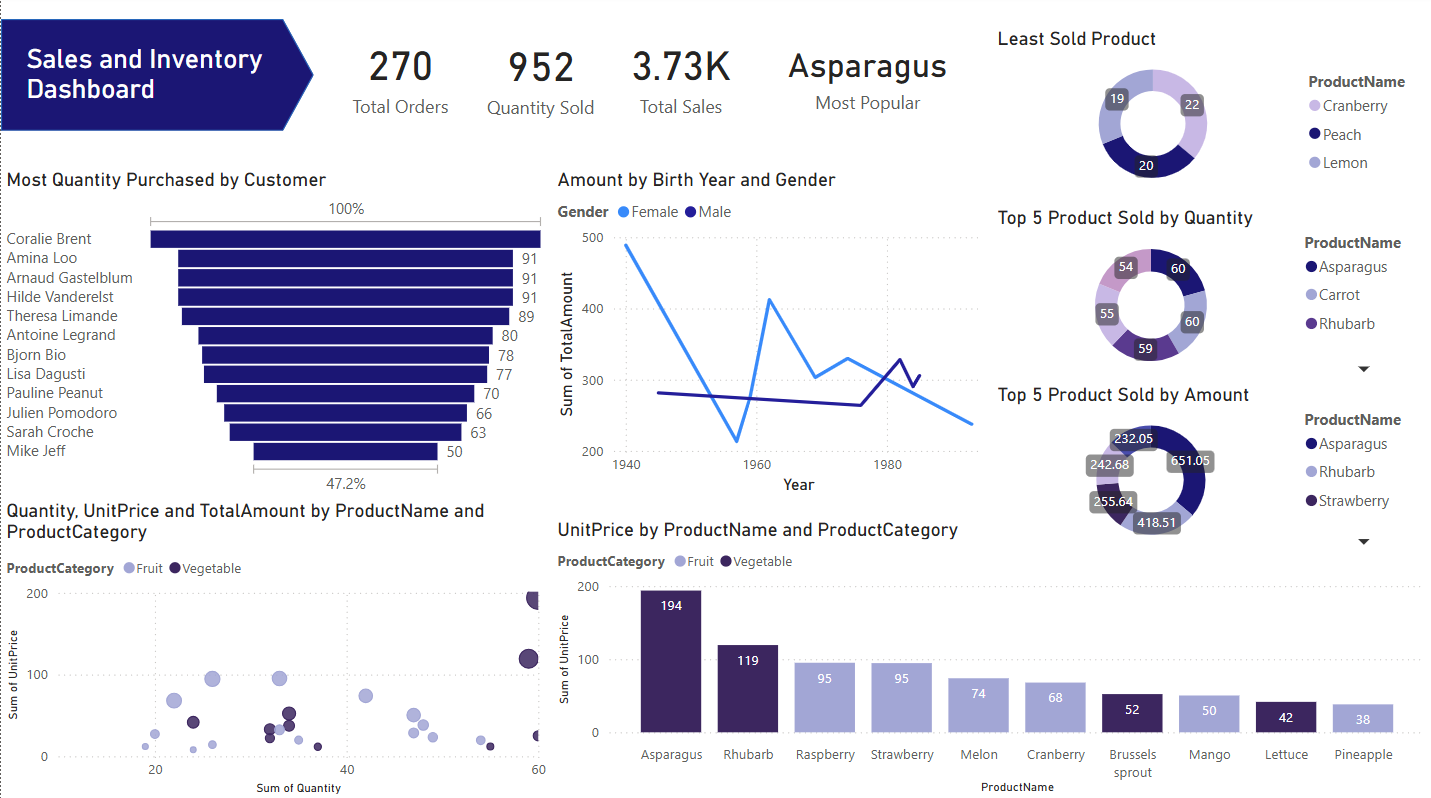

This screenshot's page, from the dashboard's own definition file:
{"tool":"powerbi","page":{"name":"Page 1","canvas":[1280,720],"ordinal":0},"visuals":[{"type":"funnel","title":"Most Quantity Purchased by Customer","fields":{"Category":["Sales and Inventory.CustomerFullName"],"Y":["Sales and Inventory.Quantity"]},"box":[0,153.7,493.1,296.7],"z":0},{"type":"scatterChart","title":"Quantity, UnitPrice and TotalAmount by ProductName and ProductCategory","fields":{"Category":["Sales and Inventory.ProductName"],"Series":["Sales and Inventory.ProductCategory"],"X":["Sales and Inventory.Quantity"],"Size":["Sales and Inventory.TotalAmount"],"Y":["Sales and Inventory.UnitPrice"]},"box":[0,450.3,493.1,269.4],"z":1000},{"type":"columnChart","title":"UnitPrice by ProductName and ProductCategory","fields":{"Y":["Sales and Inventory.UnitPrice"],"Category":["Sales and Inventory.ProductName"],"Series":["Sales and Inventory.ProductCategory"]},"box":[493.1,467.8,786.9,251.9],"z":2000},{"type":"lineChart","title":"Amount by Birth Year and Gender","fields":{"Category":["Sales and Inventory.Customer Birthdate.Variation.Date Hierarchy.Year","Sales and Inventory.Customer Birthdate.Variation.Date Hierarchy.Quarter","Sales and Inventory.Customer Birthdate.Variation.Date Hierarchy.Month","Sales and Inventory.Customer Birthdate.Variation.Date Hierarchy.Day"],"Y":["Sales and Inventory.TotalAmount"],"Series":["Sales and Inventory.Gender"]},"box":[493.1,153.7,393.9,296.7],"z":3000},{"type":"donutChart","title":"Top 5 Product Sold by Quantity","fields":{"Category":["Sales and Inventory.ProductName"],"Y":["Sales and Inventory.Quantity"]},"box":[887.5,188.1,388.7,158.5],"z":4000},{"type":"donutChart","title":"Top 5 Product Sold by Amount","fields":{"Category":["Sales and Inventory.ProductName"],"Y":["Sales and Inventory.TotalAmount"]},"box":[887.5,346.6,388.7,154.9],"z":5000},{"type":"donutChart","title":"Least Sold Product","fields":{"Category":["Sales and Inventory.ProductName"],"Y":["Sales and Inventory.Quantity"]},"box":[887.5,27.8,392.2,154],"z":6000},{"type":"card","title":"Total Sales","fields":{"Values":["Sales and Inventory.Quantity"]},"box":[302.5,27.2,109.9,86.6],"z":7000},{"type":"card","fields":{"Values":["Sales and Inventory.Quantity"]},"box":[419.2,25.3,128.4,91.4],"z":8000},{"type":"card","fields":{"Values":["Sales and Inventory.TotalAmount"]},"box":[547.6,28.2,123.5,84.6],"z":9000},{"type":"card","fields":{"Values":["Sales and Inventory.ProductName"]},"box":[690.6,26.3,171.2,88.5],"z":10000},{"type":"shape","box":[0,20.4,280.1,100.2],"z":11000},{"type":"textbox","box":[17.5,37.9,253.9,64.2],"z":12000}]}

Visuals, with their boxes in screenshot pixels (x1, y1, x2, y2), scaled from the page's 1280x720 canvas onto the 1431x798 screenshot:
"Most Quantity Purchased by Customer" funnel: (0,170,551,499)
"Quantity, UnitPrice and TotalAmount by ProductName and ProductCategory" scatterChart: (0,499,551,797)
"UnitPrice by ProductName and ProductCategory" columnChart: (551,518,1430,797)
"Amount by Birth Year and Gender" lineChart: (551,170,992,499)
"Top 5 Product Sold by Quantity" donutChart: (992,208,1427,384)
"Top 5 Product Sold by Amount" donutChart: (992,384,1427,556)
"Least Sold Product" donutChart: (992,31,1430,201)
"Total Sales" card: (338,30,461,126)
card - Sales and Inventory.Quantity: (469,28,612,129)
card - Sales and Inventory.TotalAmount: (612,31,750,125)
card - Sales and Inventory.ProductName: (772,29,963,127)
shape: (0,23,313,134)
textbox: (20,42,303,113)
